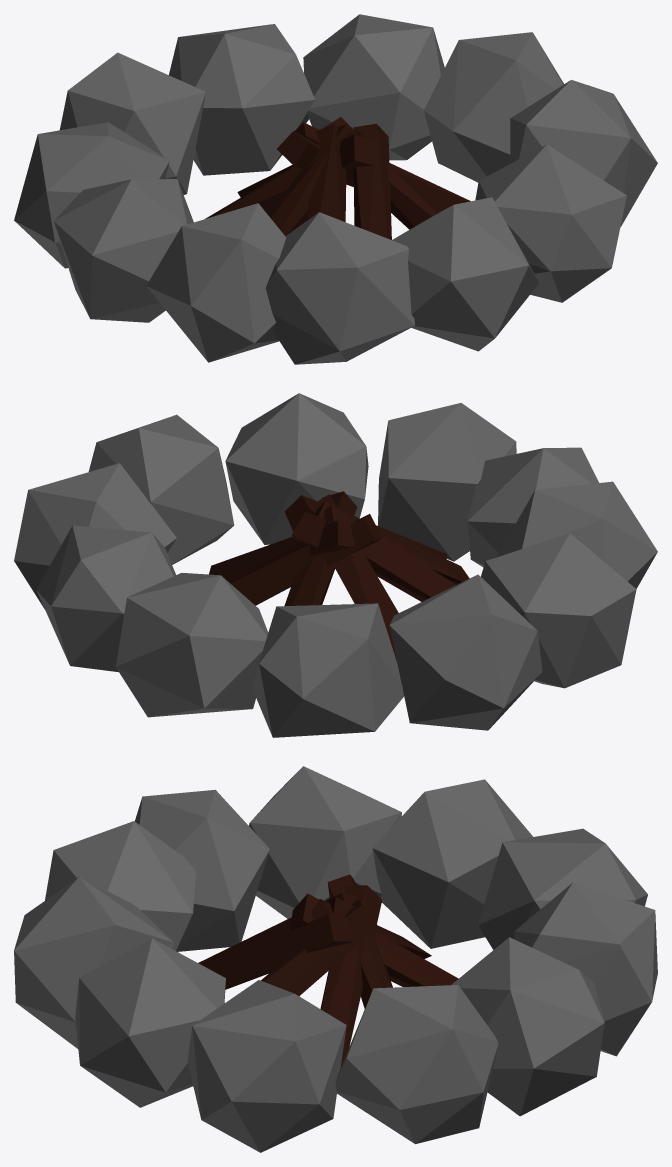
Rendered from fire.fbx.
3 renders of one model, top to bottom at view 1: azimuth 30°, elevation 25°; view 2: azimuth 150°, elevation 25°; view 3: azimuth 270°, elevation 25°, orthographic. The views are drawn at different scales.
Parts seen in each view (by area): view 1: Icosphere.004, Cylinder; view 2: Icosphere.004, Cylinder; view 3: Icosphere.004, Cylinder.
Part boxes in pixels (x1,y1,x2,y2): Icosphere.004: (14,14,657,364); Cylinder: (205,117,470,239); Icosphere.004: (14,393,657,737); Cylinder: (209,491,469,661); Icosphere.004: (14,766,657,1152); Cylinder: (198,874,458,1068).
Size of the model in its own units: 795 by 217 by 770.
